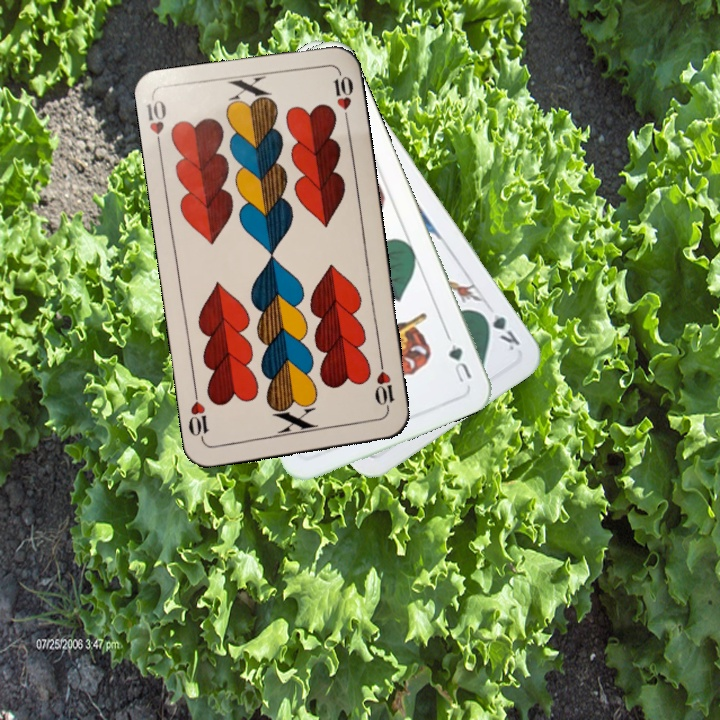GK: (476, 307, 523, 354)
GU: (444, 339, 475, 385)
H10: (371, 356, 397, 415), (143, 95, 169, 154)
